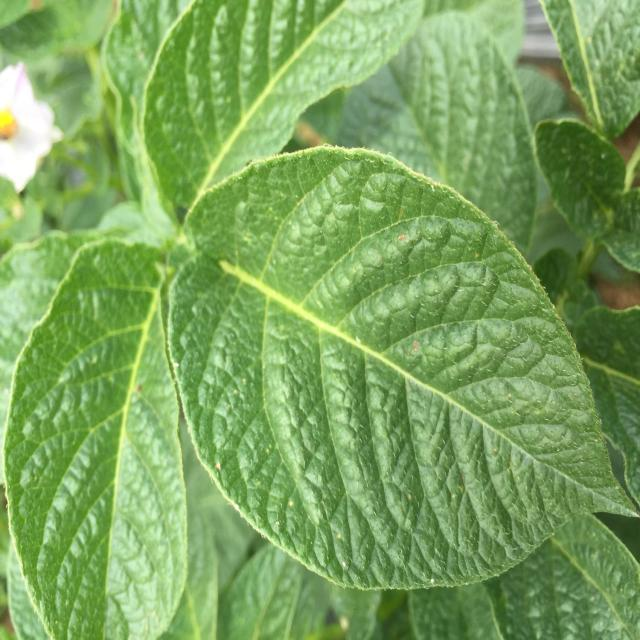healthy: (163, 143, 634, 594)
